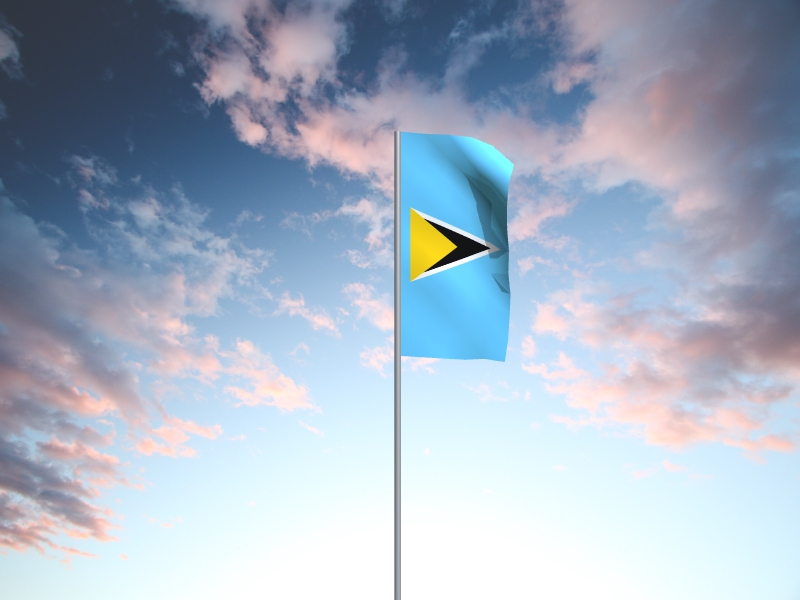lc: (402, 132, 516, 364)
